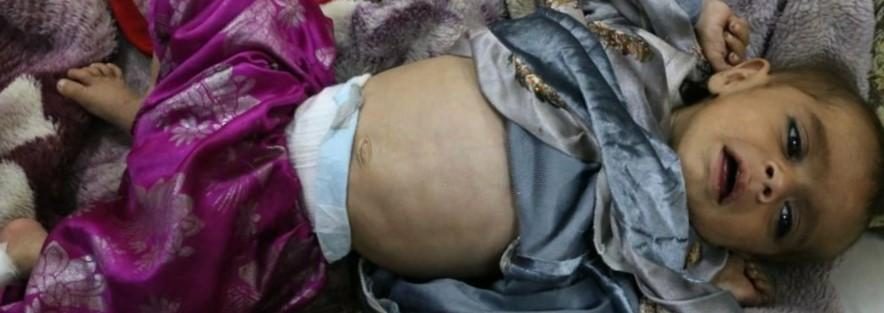Stunting: (659, 61, 884, 301)
